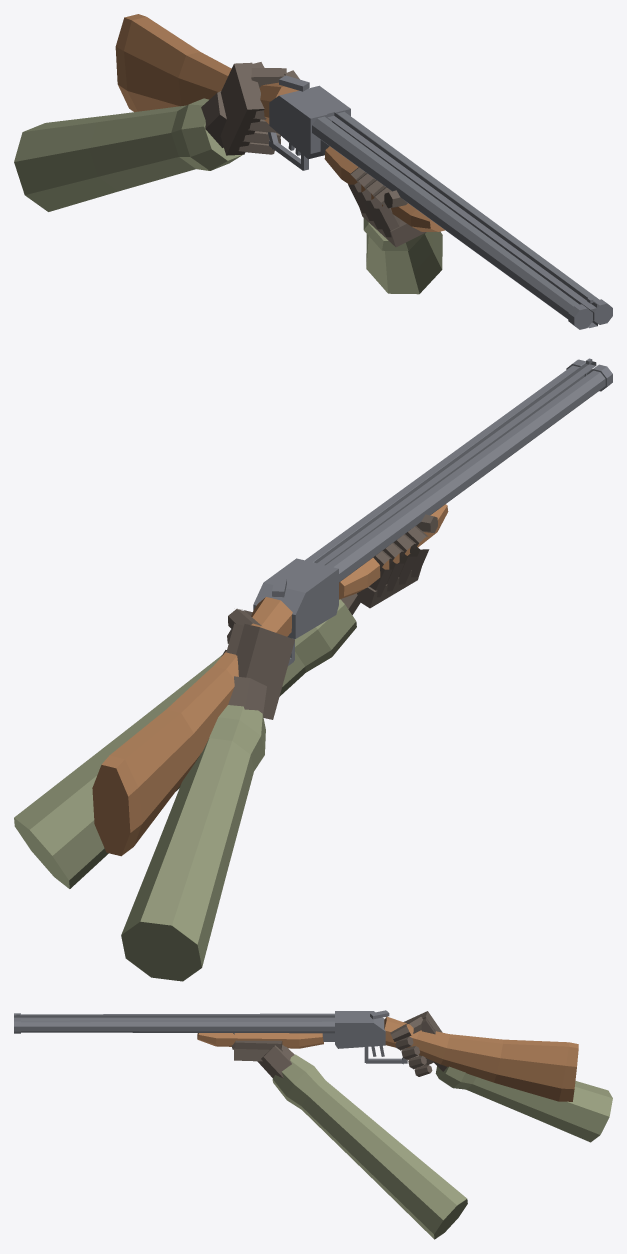
Rendered from shotgun.glb.
3 views of the same model, one above another, from view 1: azimuth 30°, elevation 25°; view 2: azimuth 150°, elevation 25°; view 3: azimuth 270°, elevation 25° (orthographic). The views are drawn at different scales.
Parts seen in each view (by area): view 1: arm_r, barrels, stock, hand_r, frame, arm_l, hand_l, forend; view 2: arm_r, stock, barrels, arm_l, hand_r, frame, hand_l, forend; view 3: arm_l, stock, barrels, arm_r, frame, hand_r, hand_l, forend.
Boxes of the visible parts, <box> form: arm_r: <box>14,98,242,211</box>; barrels: <box>312,111,612,329</box>; stock: <box>115,14,298,124</box>; hand_r: <box>201,62,299,155</box>; frame: <box>268,75,350,170</box>; arm_l: <box>363,218,442,294</box>; hand_l: <box>348,167,426,247</box>; forend: <box>324,146,444,231</box>; arm_r: <box>121,705,265,981</box>; stock: <box>92,597,292,856</box>; barrels: <box>305,358,612,582</box>; arm_l: <box>14,599,356,888</box>; hand_r: <box>221,608,294,719</box>; frame: <box>253,558,338,665</box>; hand_l: <box>340,514,437,614</box>; forend: <box>339,504,448,599</box>; arm_l: <box>272,1054,467,1239</box>; stock: <box>384,1016,578,1101</box>; barrels: <box>14,1013,334,1041</box>; arm_r: <box>435,1066,612,1142</box>; frame: <box>335,1010,407,1064</box>; hand_r: <box>390,1011,446,1076</box>; hand_l: <box>231,1033,294,1078</box>; forend: <box>197,1033,323,1048</box>.
Bounding box in the file's own units: 0.358 × 0.3262 × 1.01.
